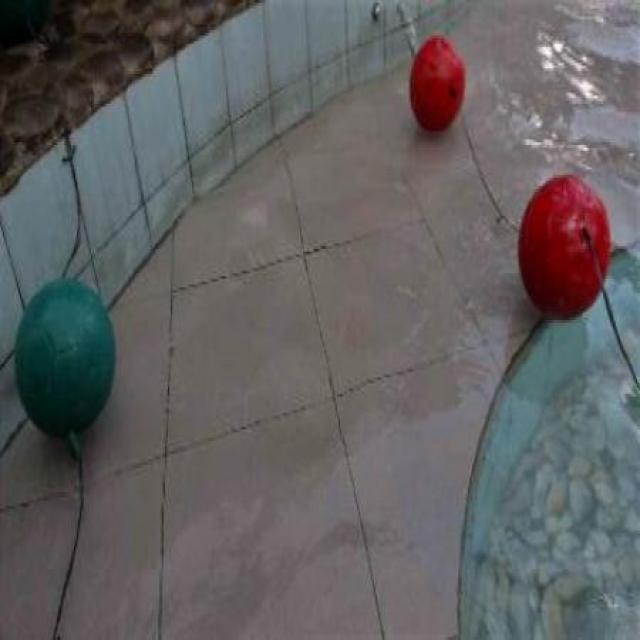buoy: (13, 276, 116, 435), (517, 173, 612, 324), (408, 35, 465, 134)
